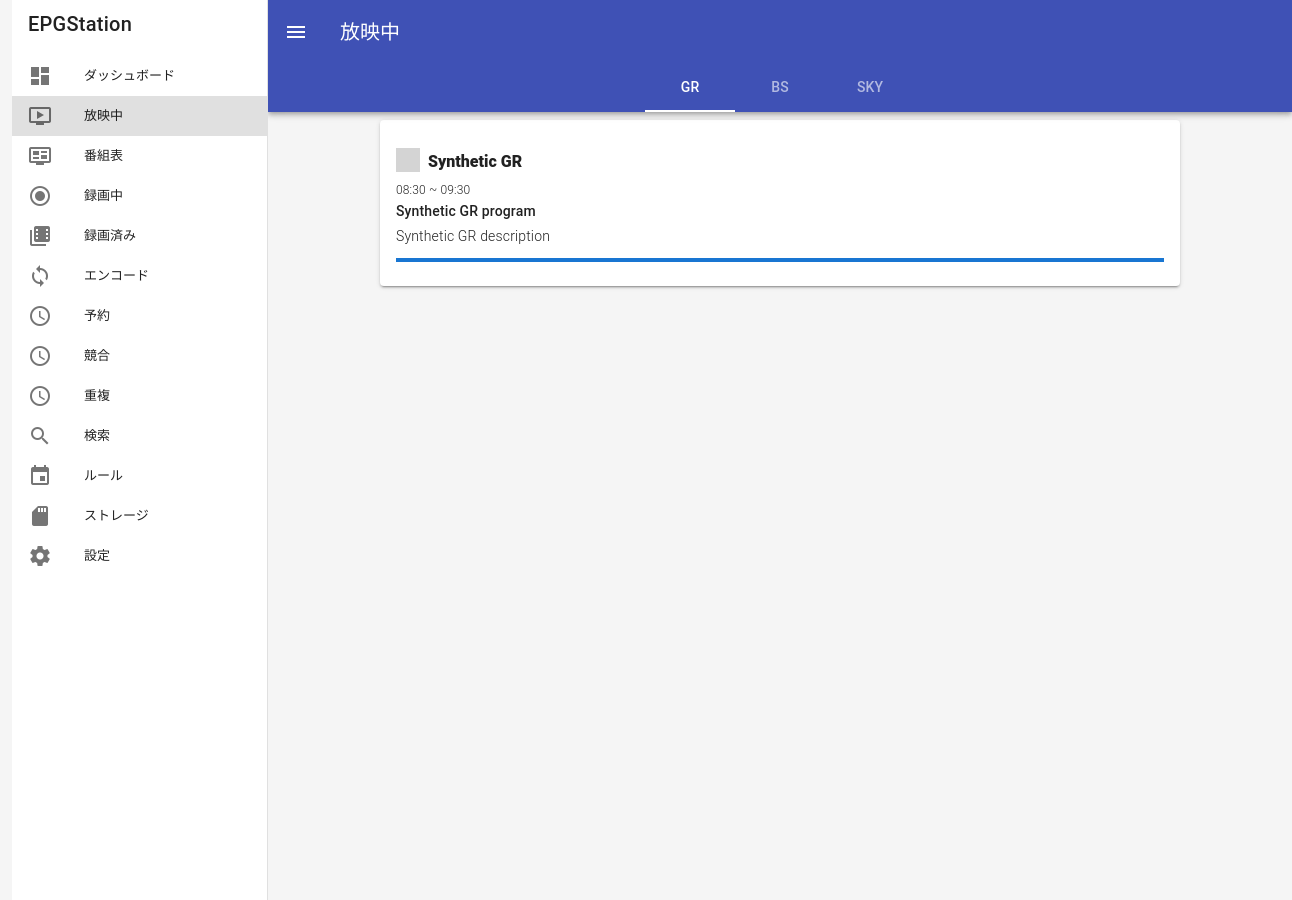
On Air route and fetch lifecycle › [AC 1.7] [AC 1.8] uses enabled broadcast waves as tabs in fixed order without syncing route query
The image size is (1292, 900).
Expected: the element with test id "onair-page" is shown, x1=380 y1=120 x2=1180 y2=286
Expected: the tab "GR" is shown, x1=645 y1=64 x2=735 y2=112
Click the tab "BS". click: point(780, 88)
box: x1=735 y1=64 x2=825 y2=112
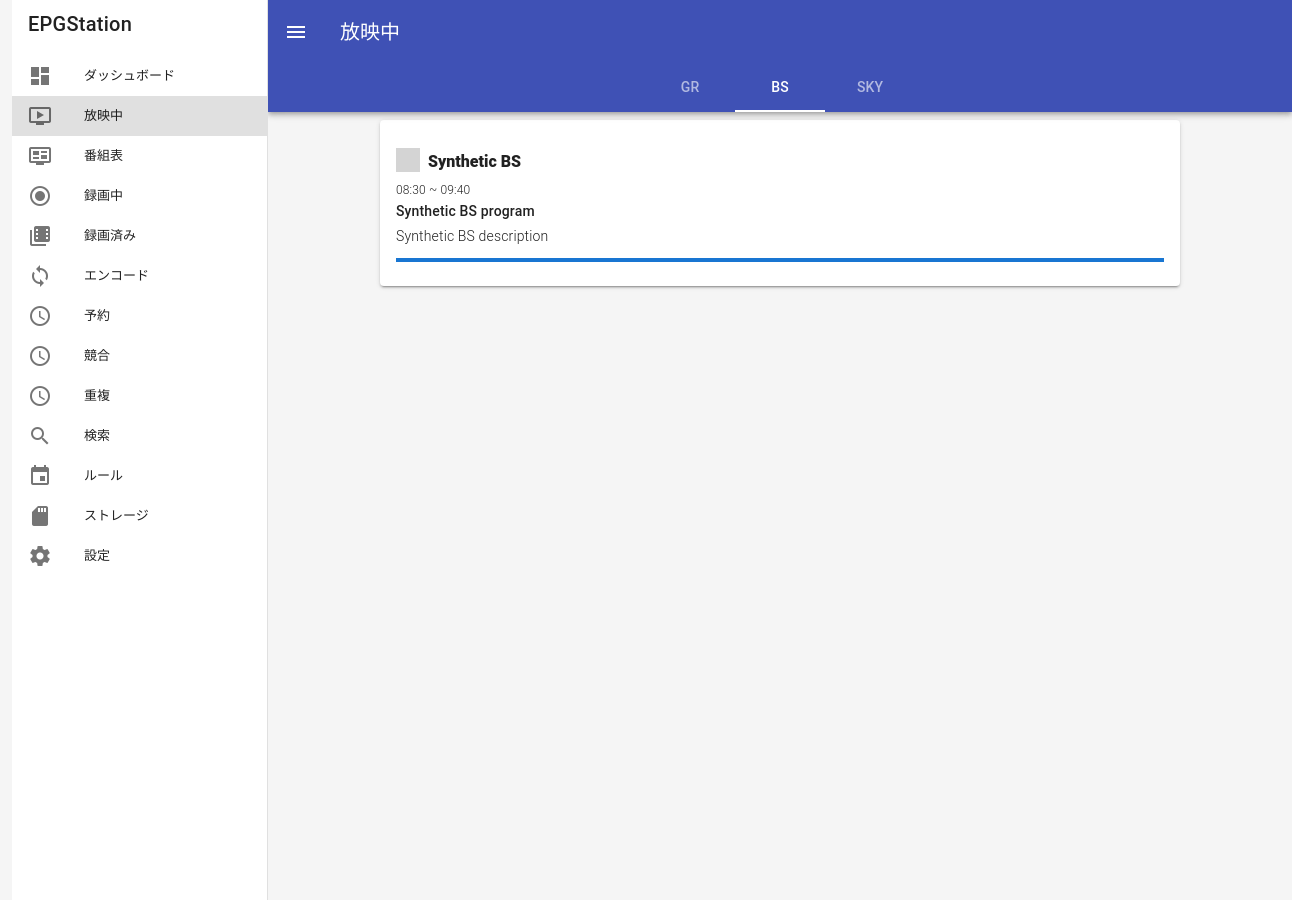
Now the element with test id "onair-card-20" shows "Synthetic BS program", box x1=396 y1=203 x2=535 y2=219
Now the element with test id "onair-card-10" is gone
